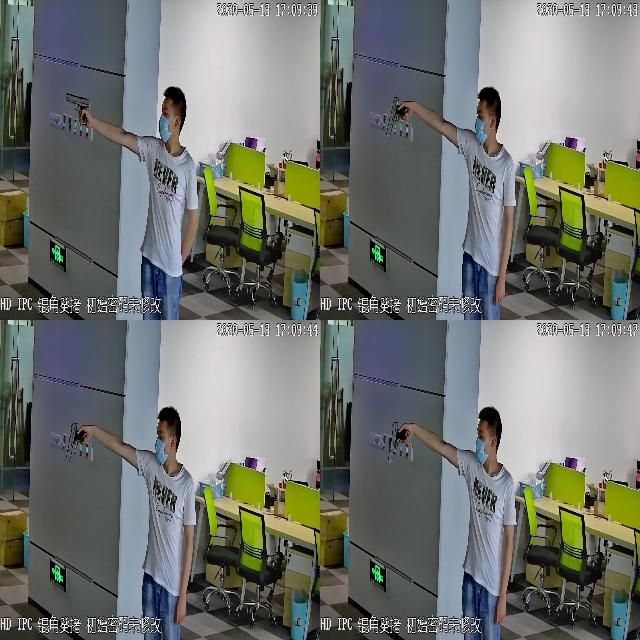gun-knife-thesis - v11 Yolov5 augmented: (383, 91, 408, 135), (63, 419, 86, 464), (64, 88, 90, 125), (386, 417, 405, 463)
